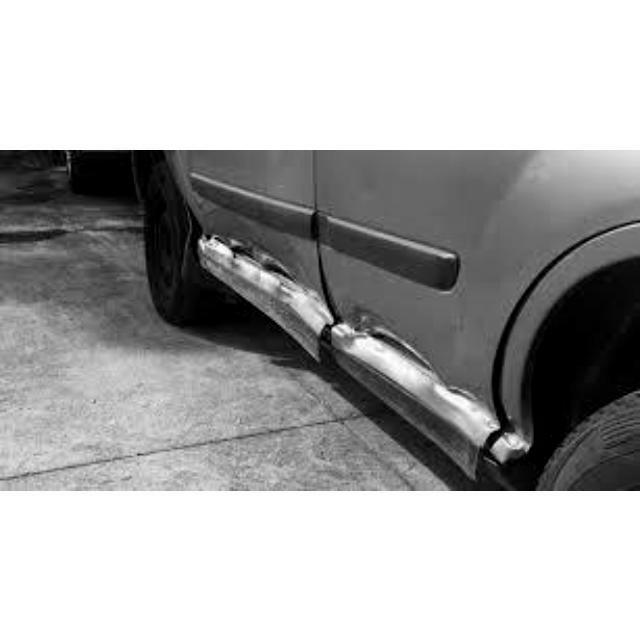Runningboard-Damage: (184, 235, 415, 357)
